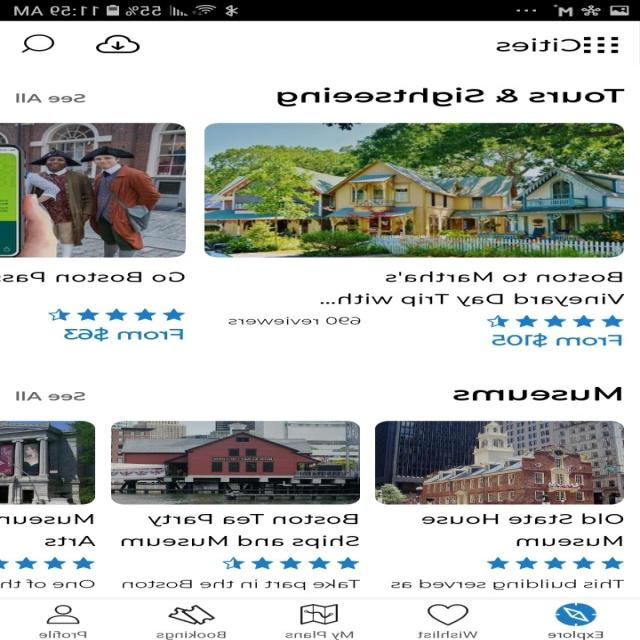Icon: (486, 314, 624, 328), (222, 556, 359, 569), (49, 308, 186, 321), (487, 556, 623, 569), (1, 556, 96, 569), (556, 602, 596, 626), (169, 604, 216, 624), (428, 603, 470, 625), (96, 34, 142, 54), (300, 604, 338, 624), (47, 604, 80, 624), (22, 34, 56, 53), (583, 37, 619, 54)
Image: (205, 123, 625, 257), (1, 123, 187, 257), (112, 420, 361, 504), (375, 420, 624, 504), (1, 422, 96, 504)
Text: (321, 271, 625, 307), (122, 513, 360, 548), (422, 512, 623, 546), (277, 87, 625, 106), (1, 513, 97, 546), (392, 578, 625, 590), (122, 579, 360, 590), (453, 386, 622, 400), (492, 332, 622, 348), (3, 271, 185, 282), (65, 327, 184, 341), (496, 38, 582, 51), (229, 317, 361, 325), (1, 578, 95, 588), (16, 391, 86, 401), (16, 93, 86, 103), (285, 630, 355, 639), (157, 630, 227, 639), (548, 630, 604, 639), (418, 630, 478, 638), (39, 630, 88, 638)
